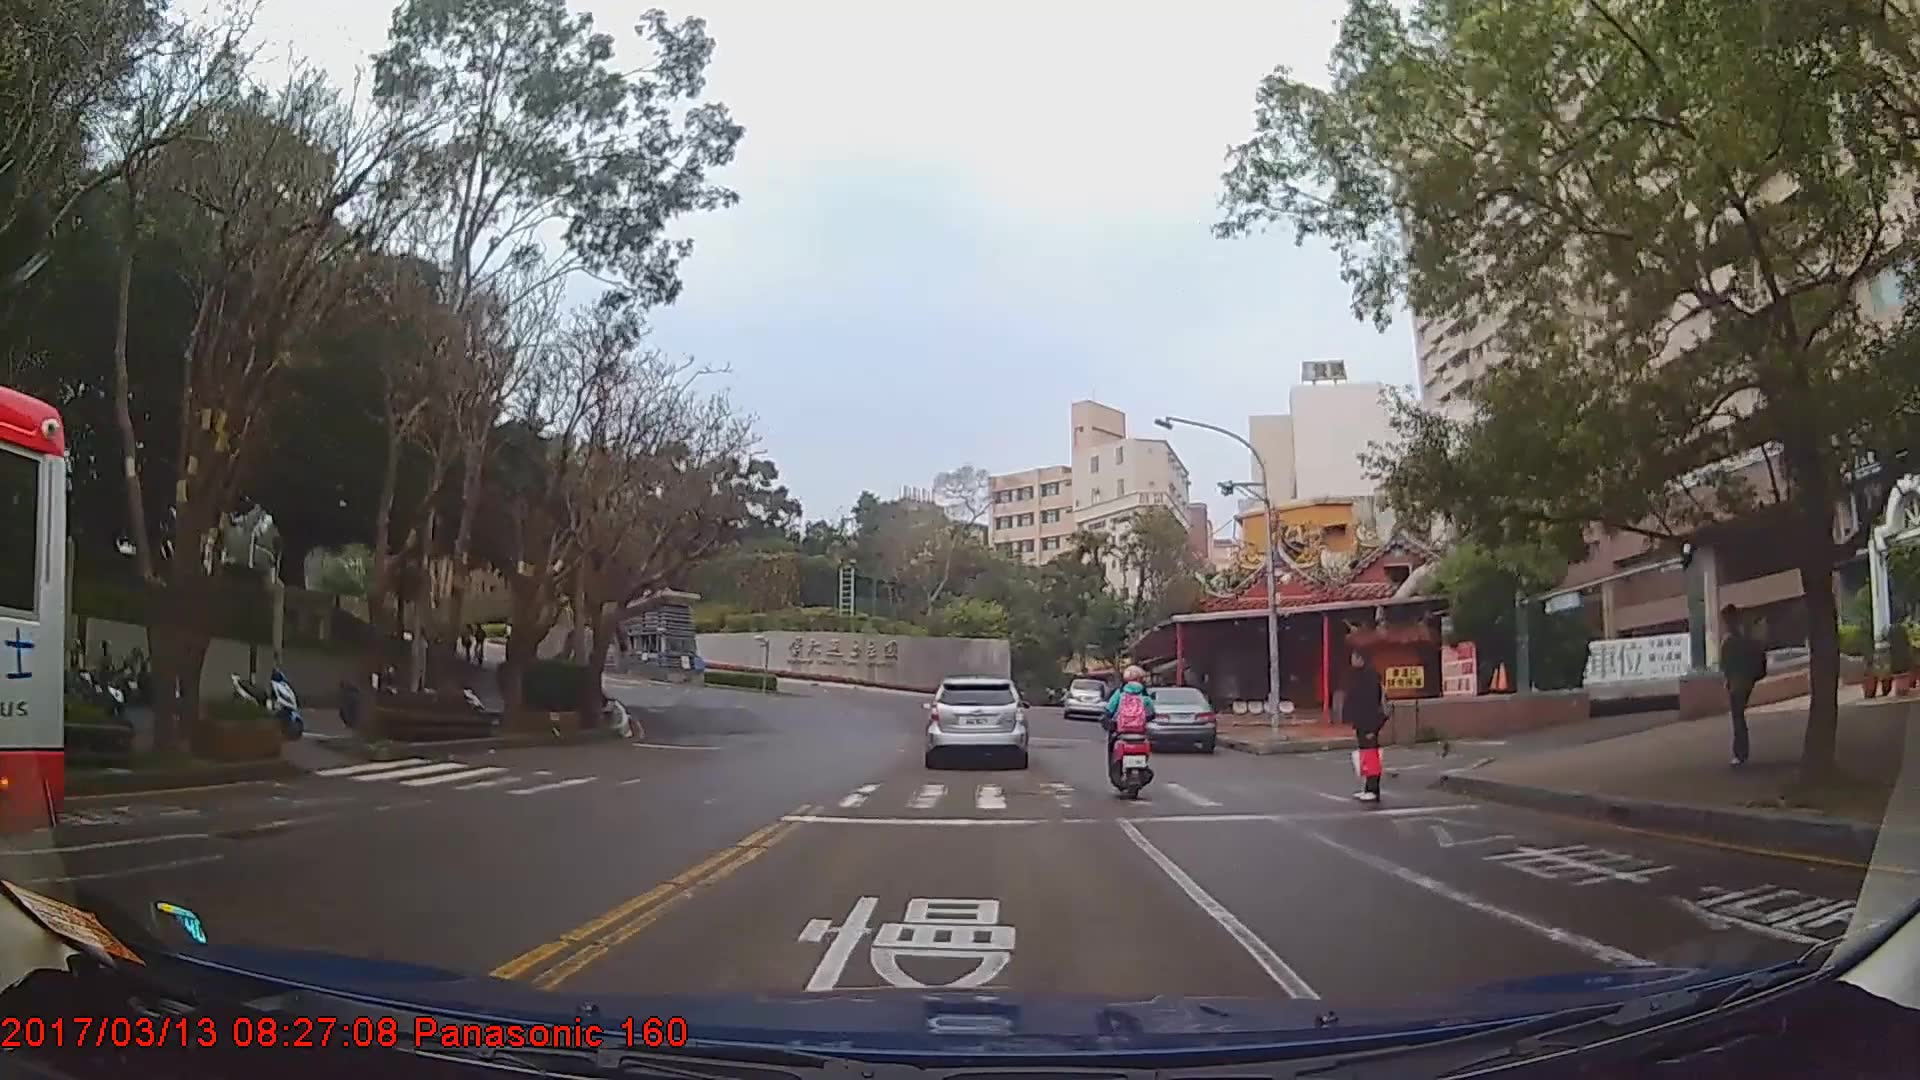pedestrian: (1712, 599, 1769, 762), (1344, 640, 1395, 807)
rider: (1101, 668, 1162, 805)
vehicle: (0, 383, 67, 900), (927, 676, 1028, 772), (1131, 682, 1218, 753), (1063, 677, 1110, 721)
